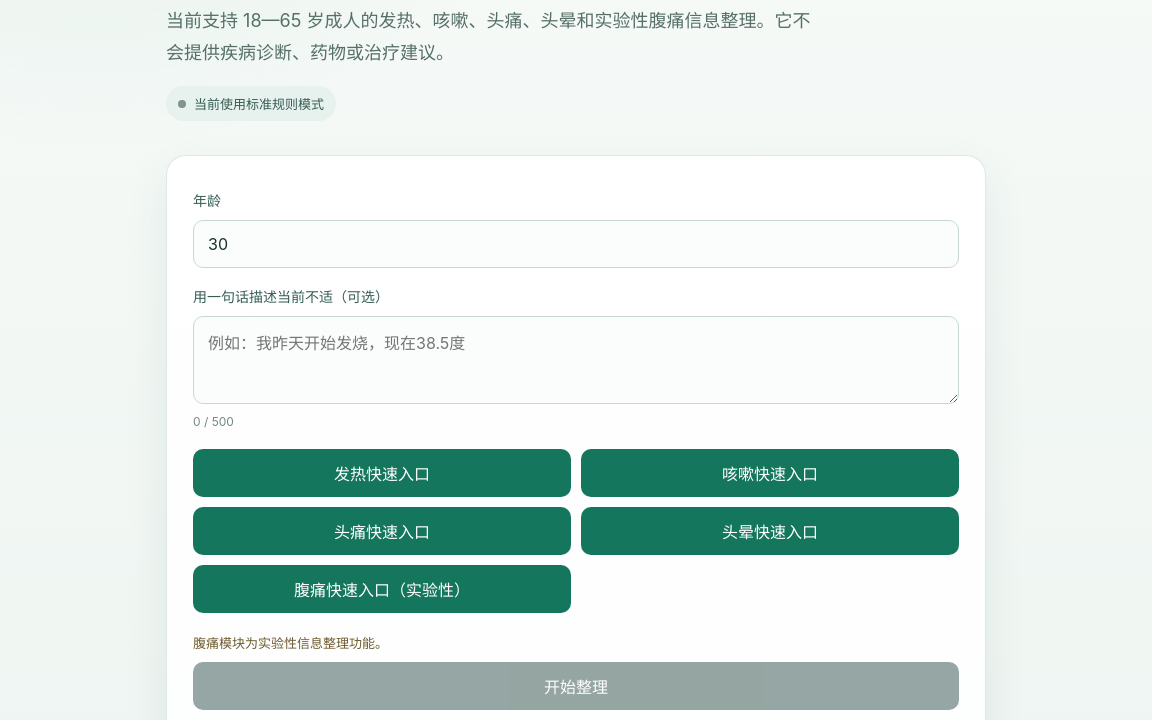
Scenario: 长文本反馈和用户文案 › 不支持页面使用中文范围文案且静态模式不请求API
The width and height of the screenshot is (1152, 720).
(page scrolled)
In the text box labelled "用一句话描述当前不适（可选）": (576, 360) [193,316,959,404], type "我腿疼"
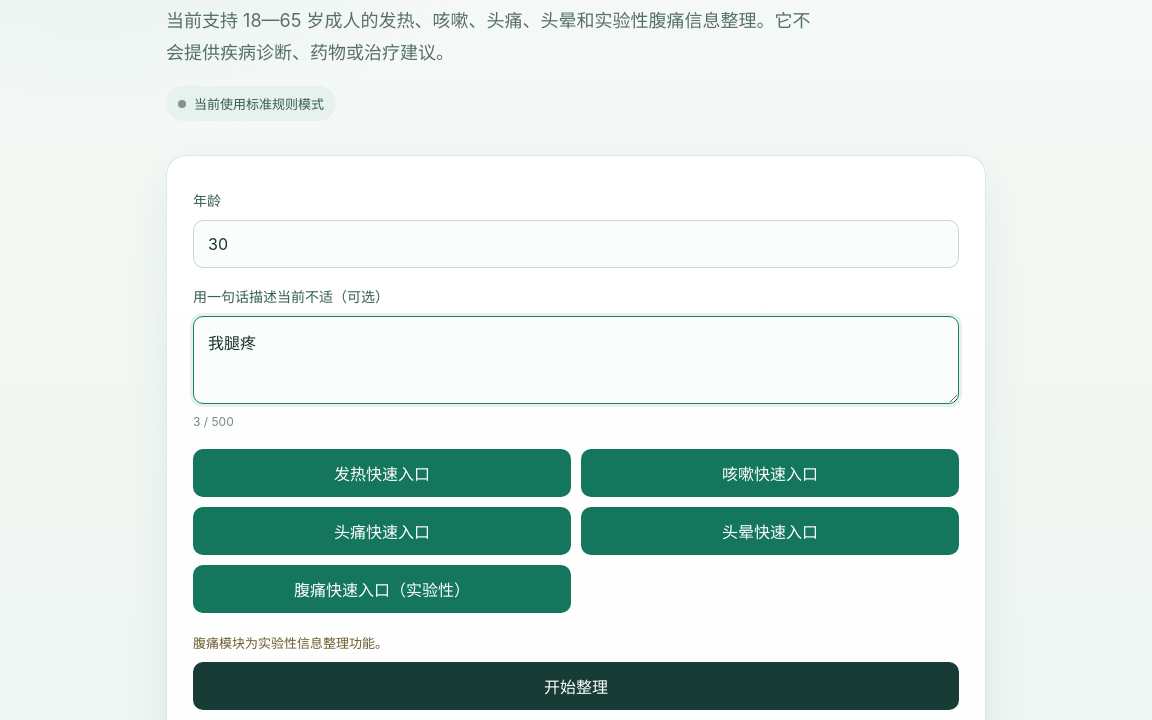
Click the button "开始整理": (576, 686) [193,662,959,710]
(page scrolled)
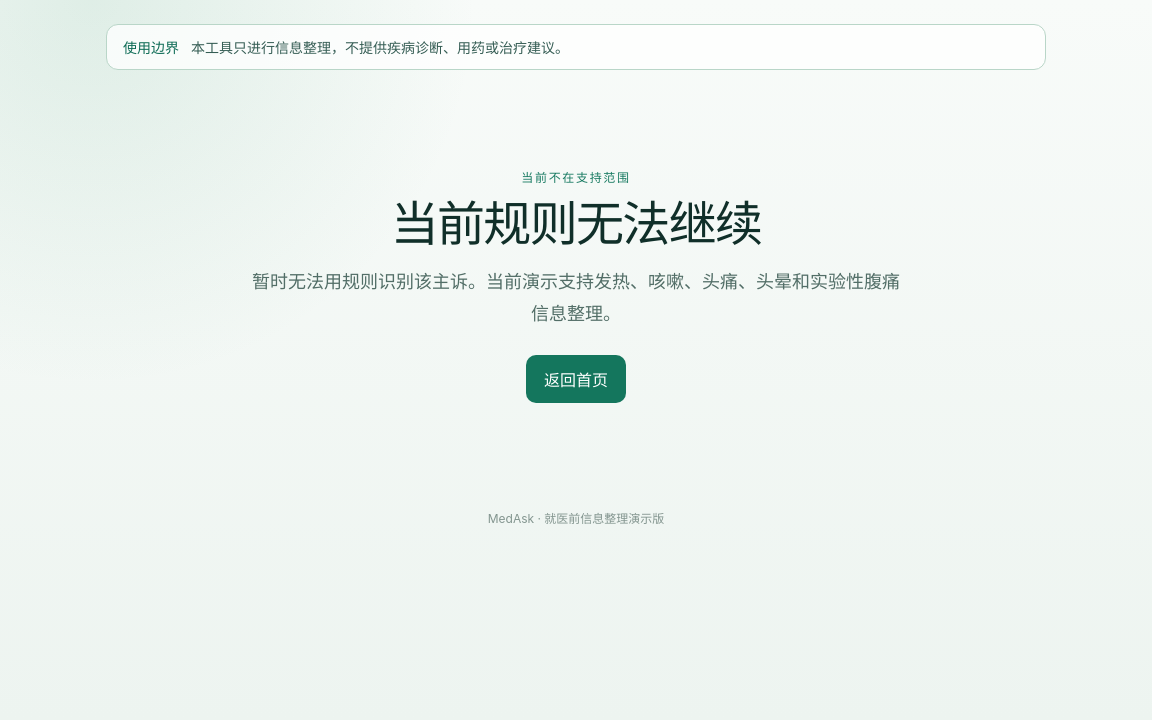
Now the text "当前不在支持范围" is shown, box [521,170,631,185]
